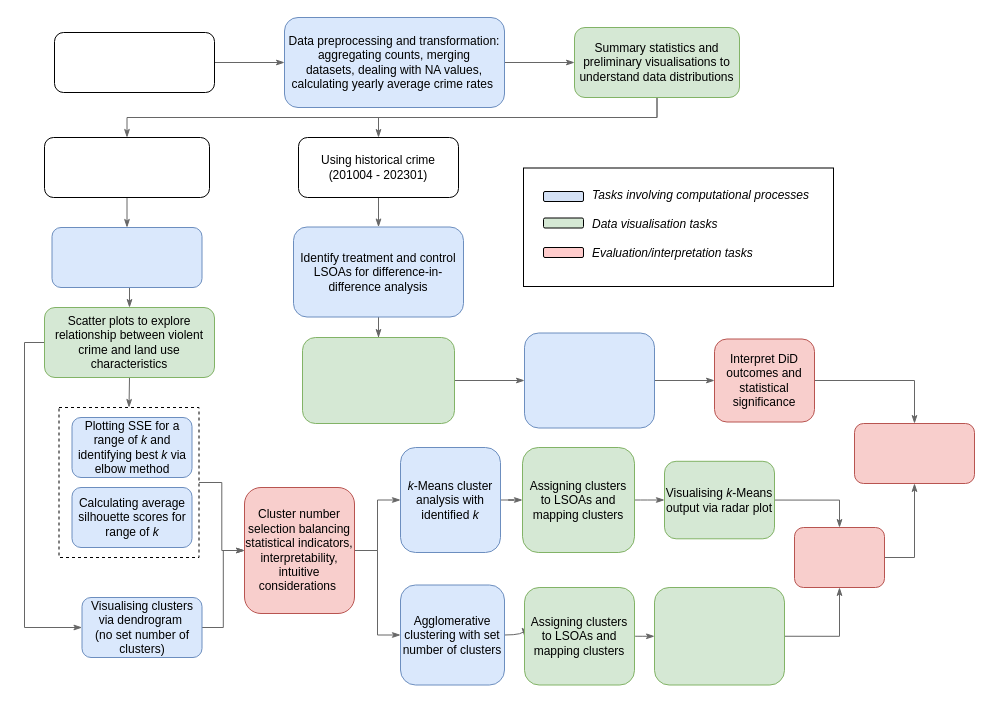
Image size: 992x703. Some labels were removed from this diagram. Each missing label, with the centre of its shape:
"Crime data, land use data, and LSOA shapefile" goes at [134,62].
"Draw conclusions" goes at [914,453].
"Interpret results of clustering" goes at [839,557].
"OLS model to evaluate causal effect of Coal Drops Yard" goes at [589,380].
"Plot crime rates to assess similarity of pre-treatment trends" goes at [378,380].
"Standardising crime rates with RobustScaler" goes at [126,257].
"Using crime for most recent 24 months (202304 - 202503)" goes at [127,167].
"Visualising agglomerative clustering output via radar plot" goes at [719,635].
